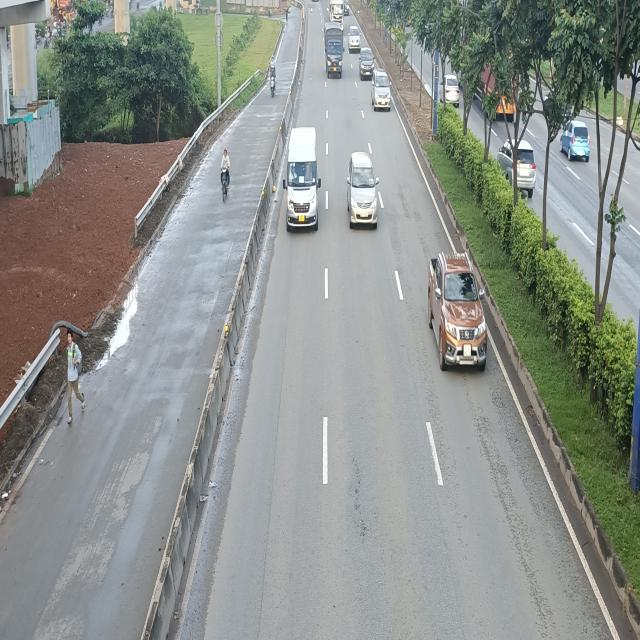car: (430, 252, 490, 372), (347, 153, 379, 231), (373, 71, 393, 112)
truck: (324, 22, 343, 77)
van: (284, 129, 321, 234)
